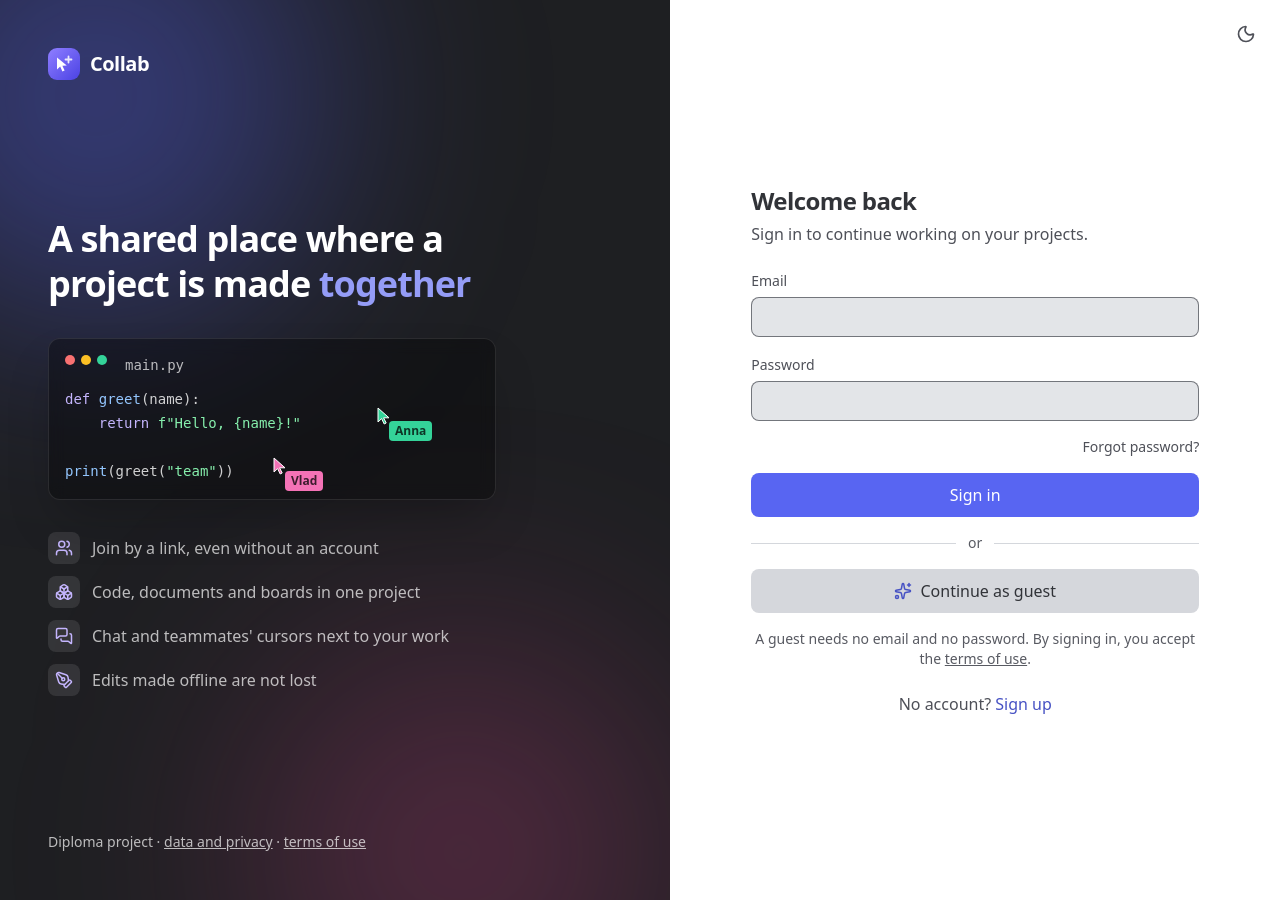
Test case: LoginPage › clears an error as soon as the field is fixed
The width and height of the screenshot is (1280, 900).
Click the button "Sign in": point(975, 495) left=751, top=473, right=1199, bottom=517
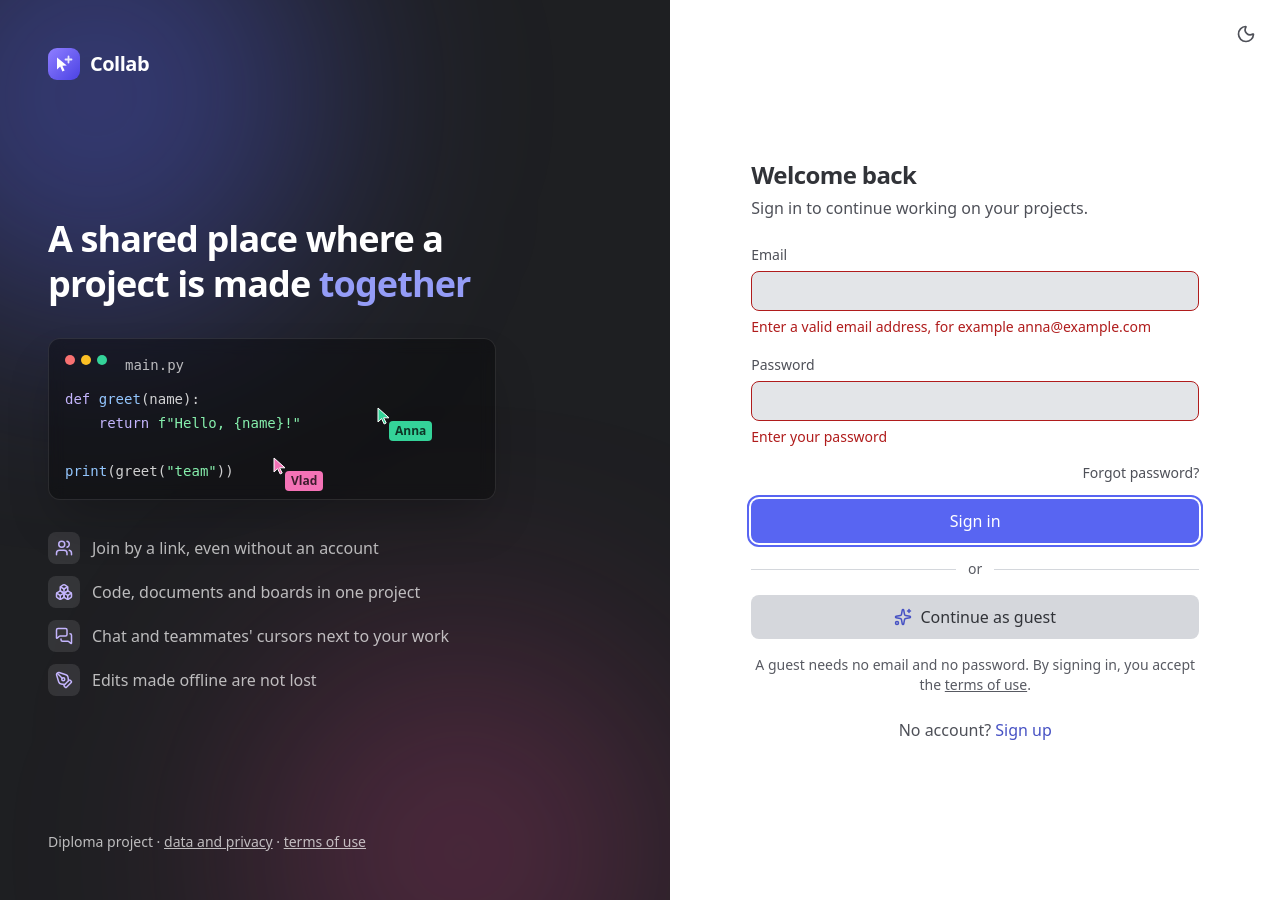
In the field labelled "Email": point(975, 291) left=751, top=271, right=1199, bottom=311, type "anna@example.com"
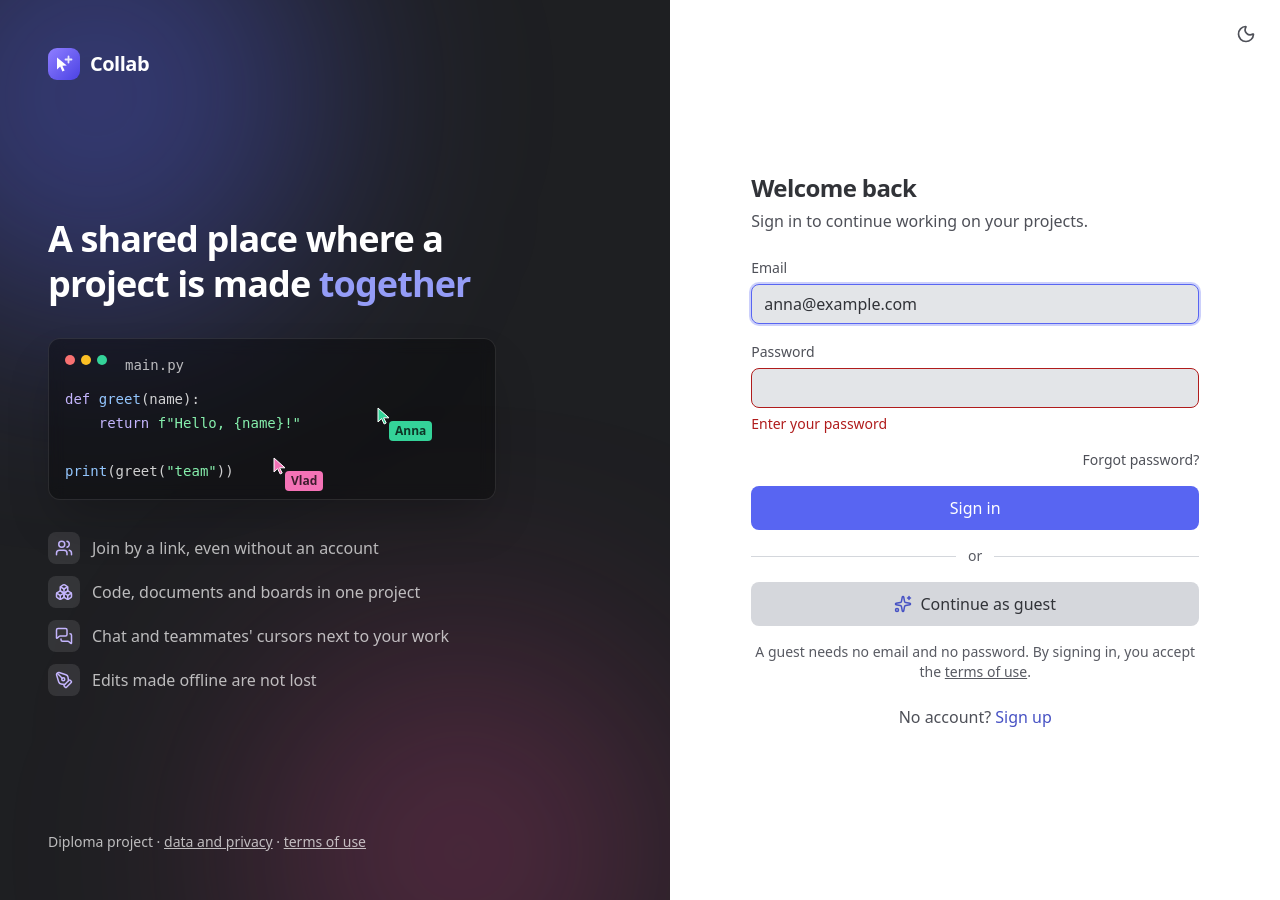
Result: the text "Enter your password" is shown at left=751, top=414, right=887, bottom=433
Result: the text "Enter a valid email address" is gone
